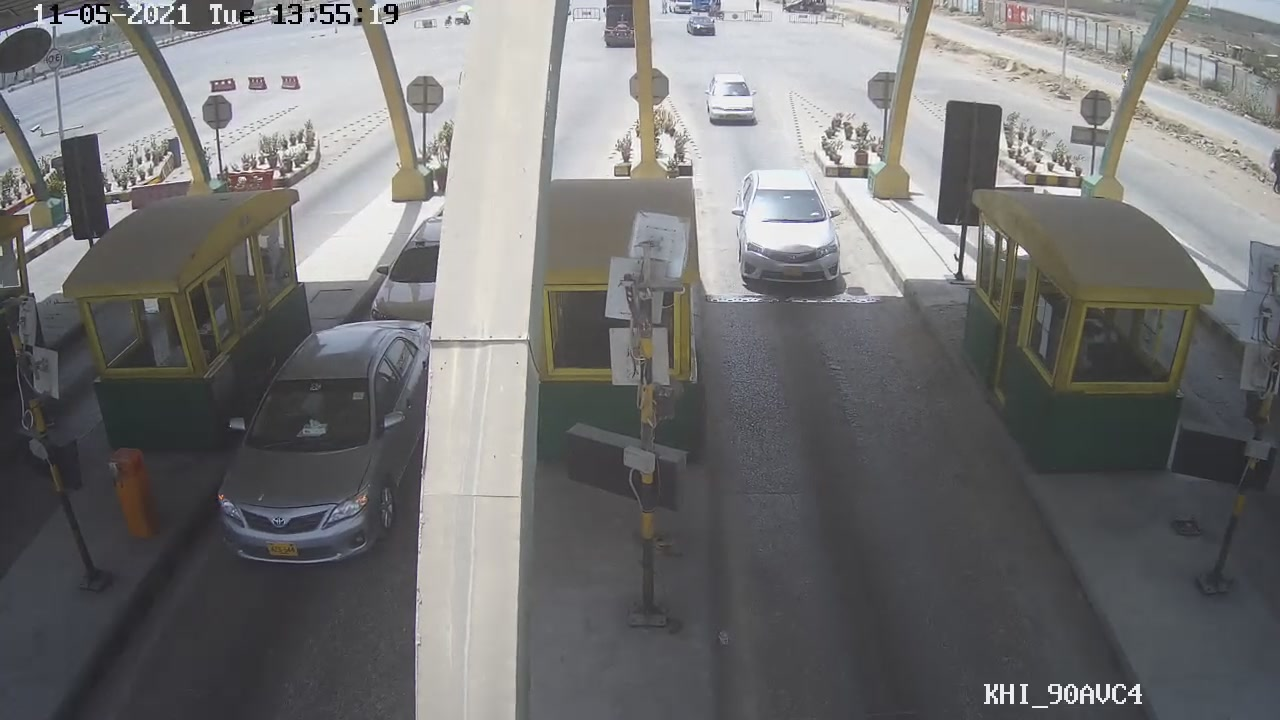F2: (726, 162, 852, 304)
